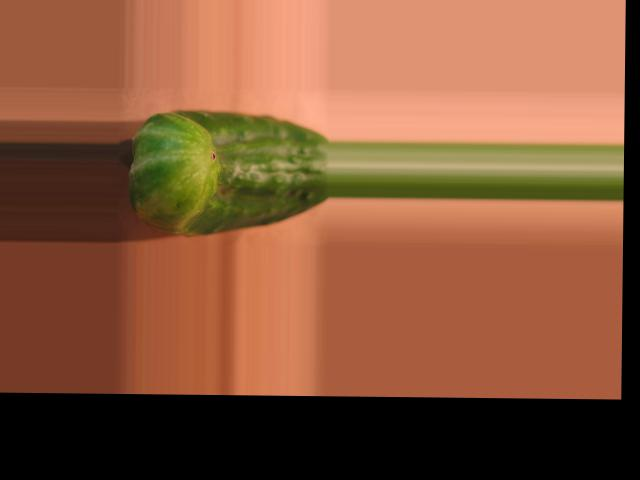cucumber: (129, 108, 330, 236)
